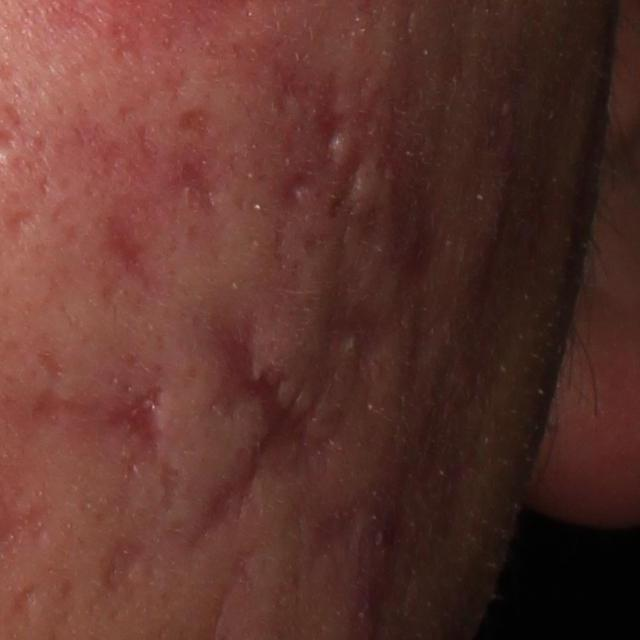atrophic_scar: (196, 318, 326, 545), (291, 245, 388, 412), (27, 382, 167, 466), (263, 51, 348, 160), (94, 212, 152, 291), (101, 532, 148, 596), (329, 142, 368, 218), (165, 162, 219, 216), (275, 163, 316, 212), (173, 100, 218, 142), (4, 205, 39, 245), (10, 584, 38, 628), (34, 347, 67, 383)
hypertrophic_scar: (351, 151, 398, 212), (325, 131, 356, 168)
